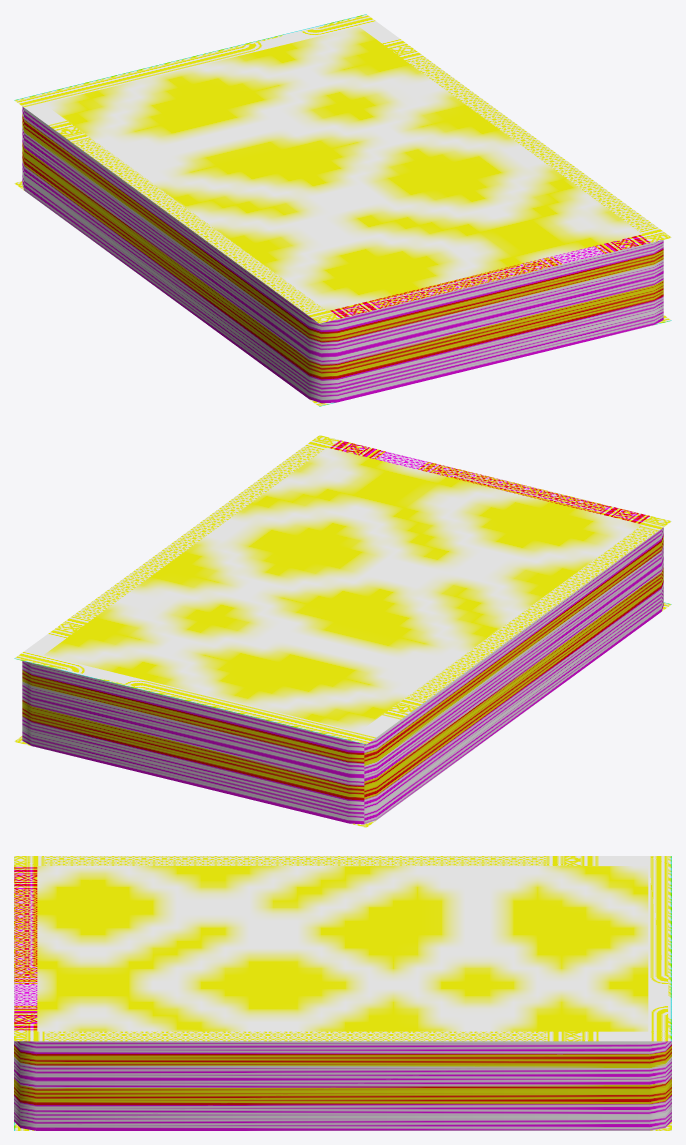
File: pokerCard.fbx
3 renders of one model, top to bottom at view 1: azimuth 30°, elevation 25°; view 2: azimuth 150°, elevation 25°; view 3: azimuth 270°, elevation 25°, orthographic. The views are drawn at different scales.
Parts seen in each view (by area): view 1: card; view 2: card; view 3: card.
Part boxes in pixels (x1,y1,x2,y2): card: [14, 14, 671, 406]; card: [14, 435, 671, 827]; card: [14, 856, 671, 1130].
Bounding box in the file's own units: 8.88 × 2 × 13.33.
